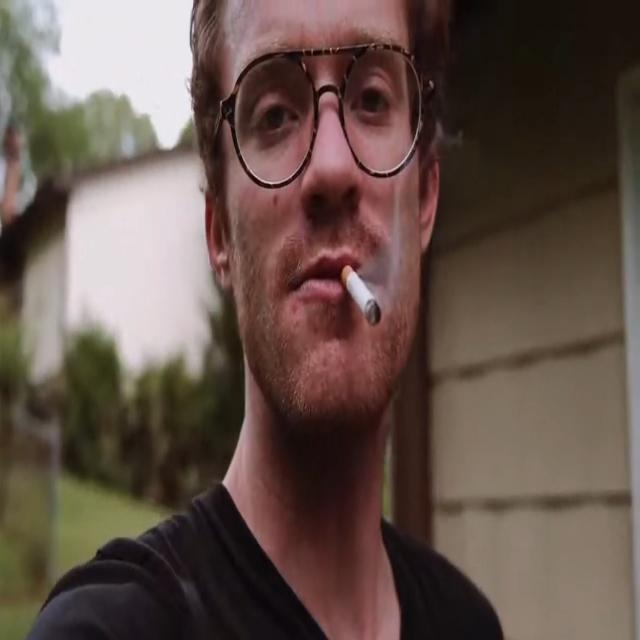Курение: (338, 262, 382, 330)
